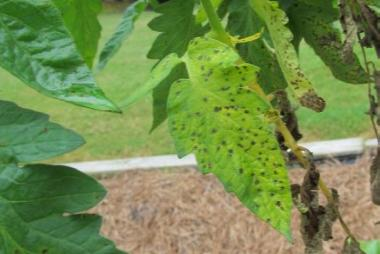Tomato Septoria leaf spot: (165, 22, 300, 243)
